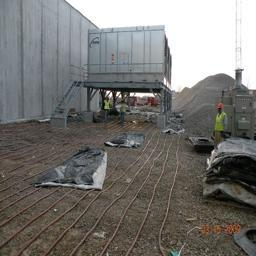hat: (215, 101, 226, 115)
vest: (213, 114, 231, 134), (102, 100, 112, 115)
